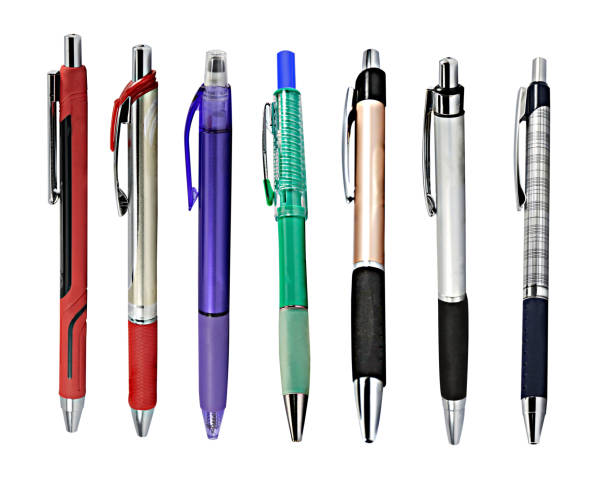pen: (495, 45, 563, 452), (332, 46, 397, 448), (36, 23, 97, 445), (416, 51, 480, 451), (252, 44, 315, 441), (104, 33, 164, 449), (175, 42, 236, 448)
